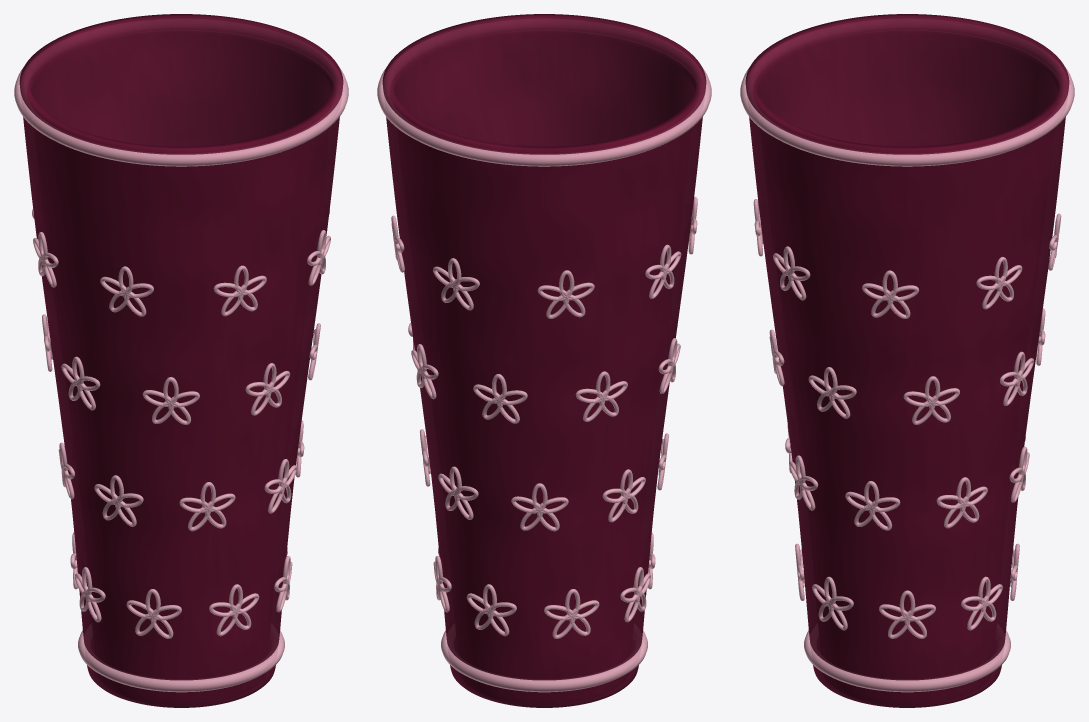
File: bcm-993.glb
3 views of the same model, side by side, from view 1: azimuth 30°, elevation 25°; view 2: azimuth 150°, elevation 25°; view 3: azimuth 270°, elevation 25° (orthographic).
Visible parts, largest first — view 1: Continuous hollow vessel with formed lip, Petal relief - approximate; view 2: Continuous hollow vessel with formed lip, Petal relief - approximate; view 3: Continuous hollow vessel with formed lip, Petal relief - approximate.
Boxes of the visible parts, box(x1,y1,x2,y2) form: Continuous hollow vessel with formed lip: box(19, 14, 343, 707); Petal relief - approximate: box(14, 67, 348, 692); Continuous hollow vessel with formed lip: box(382, 14, 706, 707); Petal relief - approximate: box(377, 67, 711, 692); Continuous hollow vessel with formed lip: box(745, 14, 1069, 707); Petal relief - approximate: box(740, 67, 1074, 692).
Size of the model in its own units: 0.6201 by 1.2 by 0.6201.
